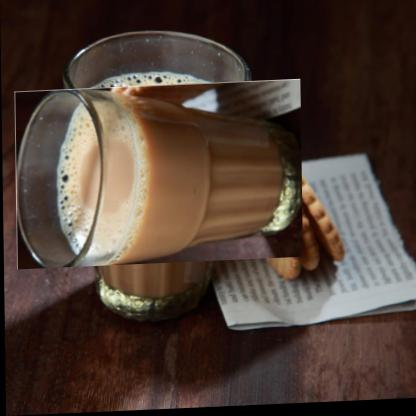milk_based_beverage: (41, 56, 276, 296)
